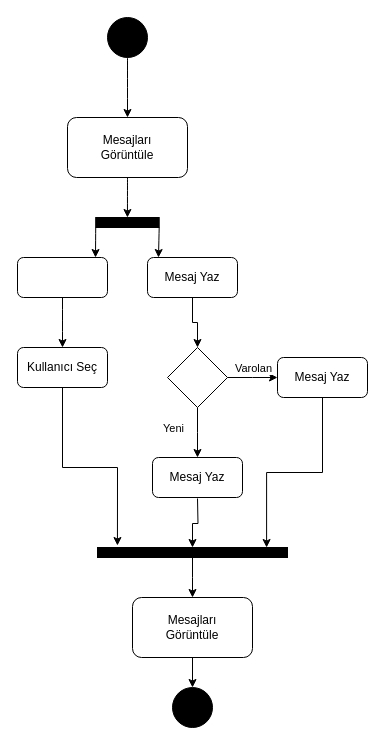
Image size: 385x745. Some labels were removed from this diagram. Here are the shapes that lost their labels. From the top down, the centre of each, then its label:
[62,277]: Mesaj Oku
[197,377]: Kullanıcı
